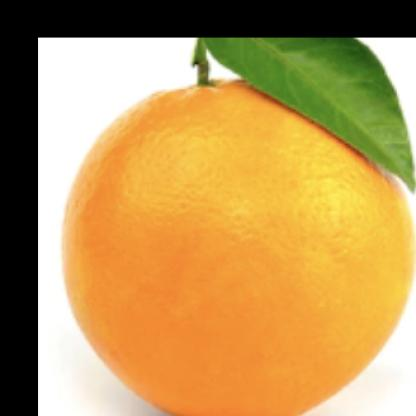fresh: (58, 58, 416, 416)
